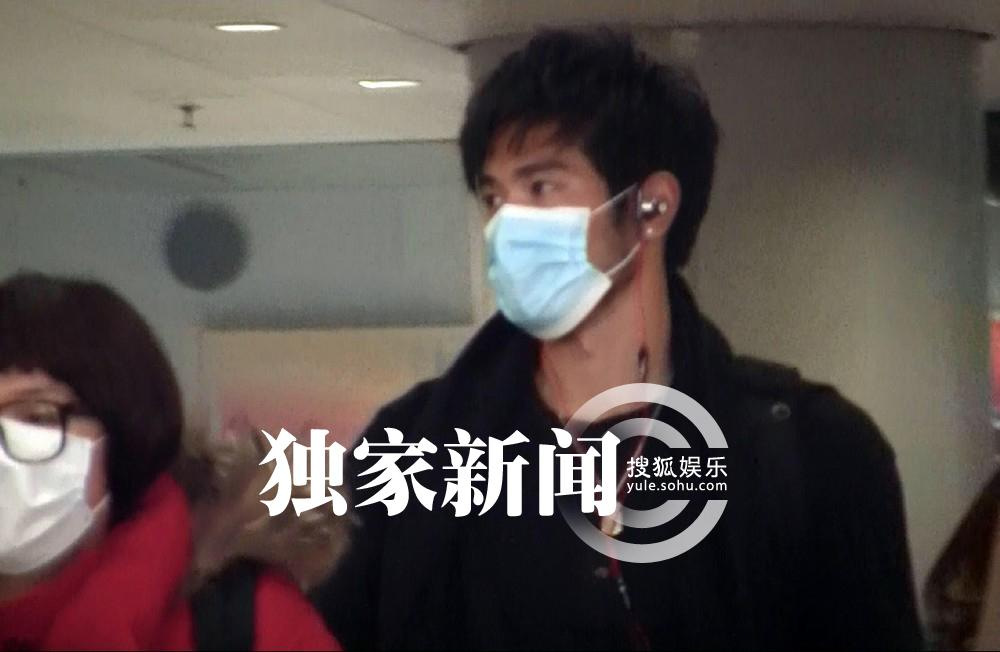mask: (472, 192, 629, 349)
